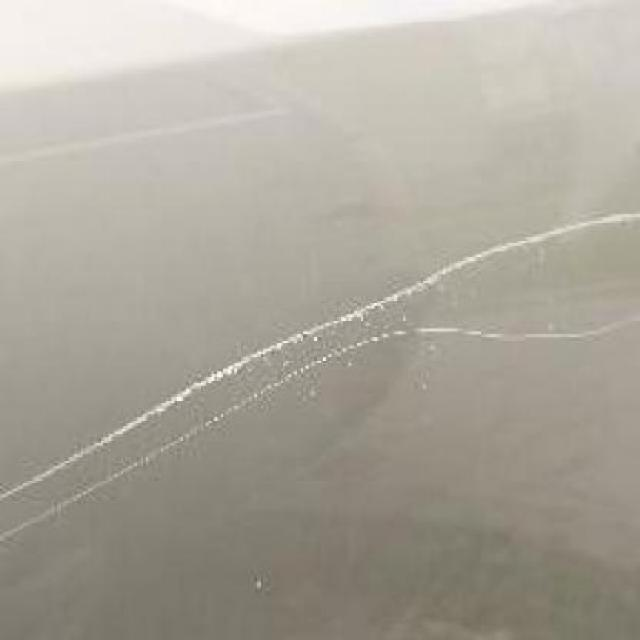dent-or-scratch: (0, 206, 637, 548)
